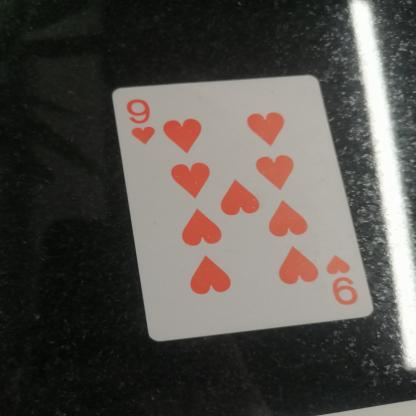9H: (315, 251, 380, 311), (122, 82, 166, 158)
